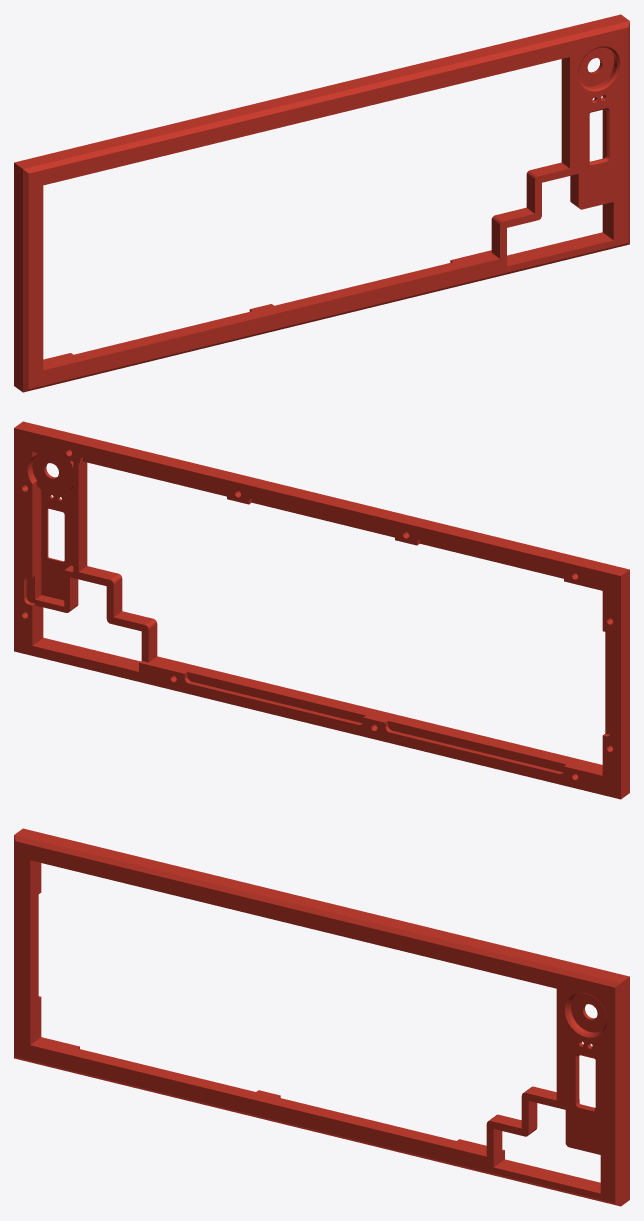
File: Top Case.obj
3 renders of one model, top to bottom at view 1: azimuth 30°, elevation 25°; view 2: azimuth 150°, elevation 25°; view 3: azimuth 330°, elevation 25°, orthographic.
Visible parts, largest first — view 1: Top Case; view 2: Top Case; view 3: Top Case.
Part boxes in pixels (x1,y1,x2,y2): Top Case: (14,14,629,392); Top Case: (14,421,629,799); Top Case: (14,828,629,1206).
Bounding box in the file's own units: 331 × 116 × 10.5.
